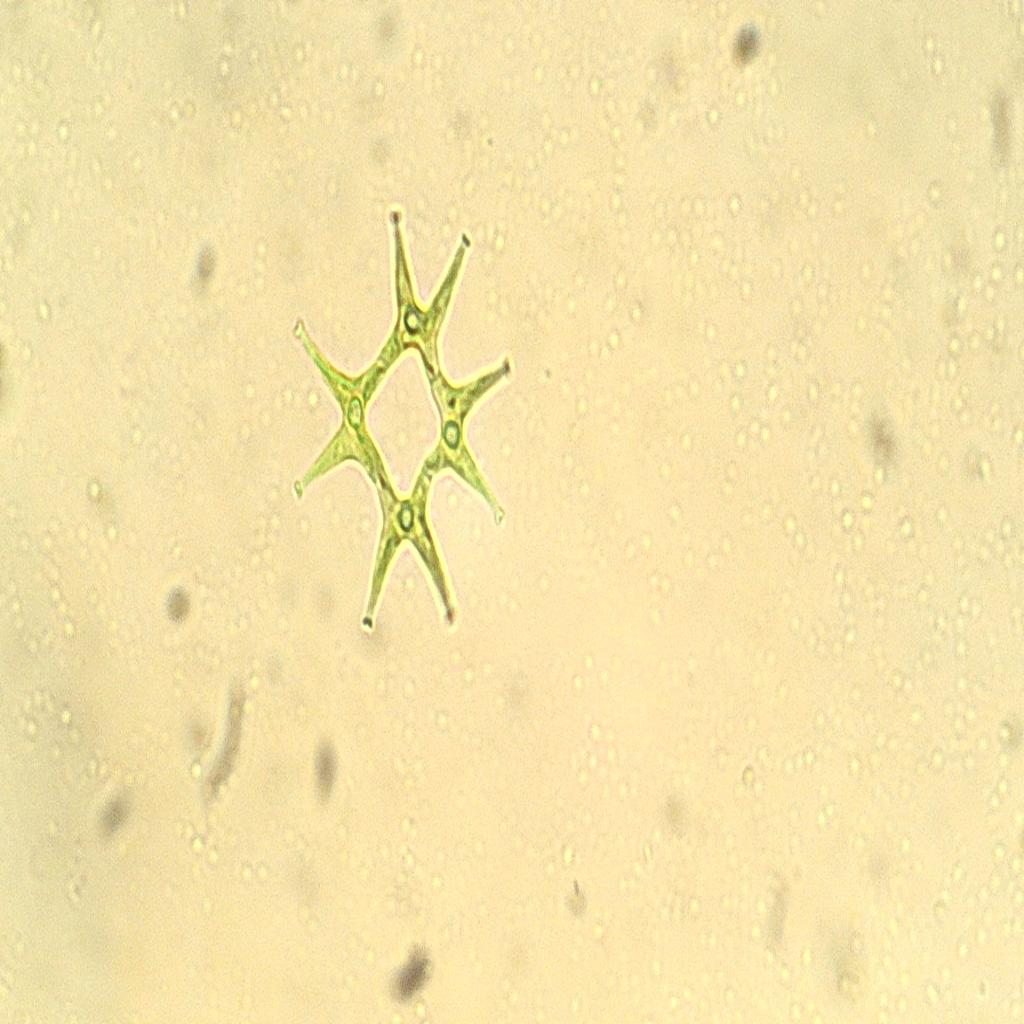Pediastrum_75O: (285, 190, 522, 652)
